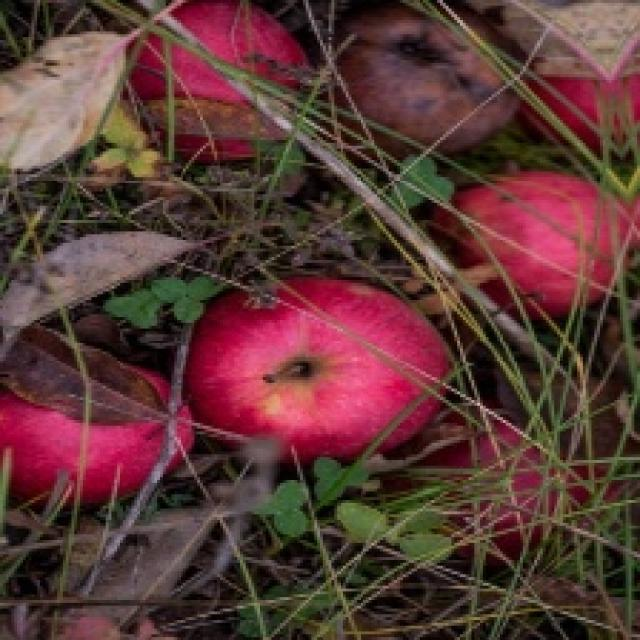100-_ripeness: (192, 279, 454, 456), (120, 0, 321, 160), (432, 182, 629, 313)
rotten_apple: (338, 11, 512, 134)
